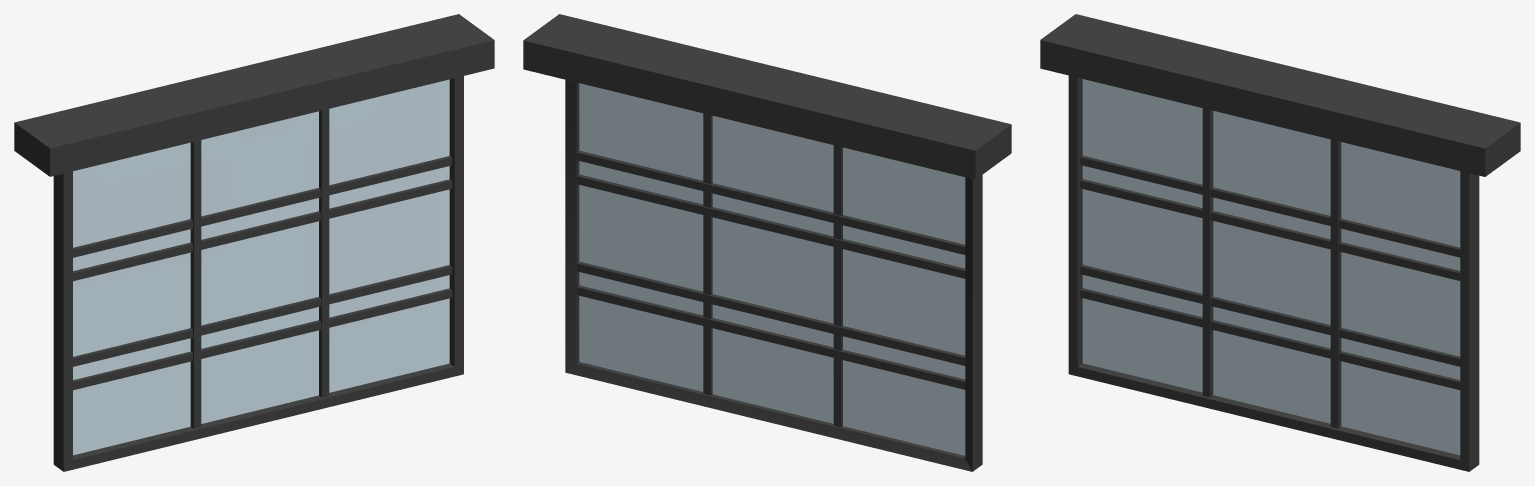
File: window_026.glb
3 views of the same model, side by side, from view 1: azimuth 30°, elevation 25°; view 2: azimuth 150°, elevation 25°; view 3: azimuth 330°, elevation 25° (orthographic).
Parts seen in each view (by area): view 1: window_026; view 2: window_026; view 3: window_026.
Part boxes in pixels (<box>): window_026: <box>14,14,494,471</box>; window_026: <box>523,14,1011,471</box>; window_026: <box>1040,14,1520,471</box>.
Size of the model in its own units: 3.43 by 2.46 by 0.4745.
1 material, 1 textured.
